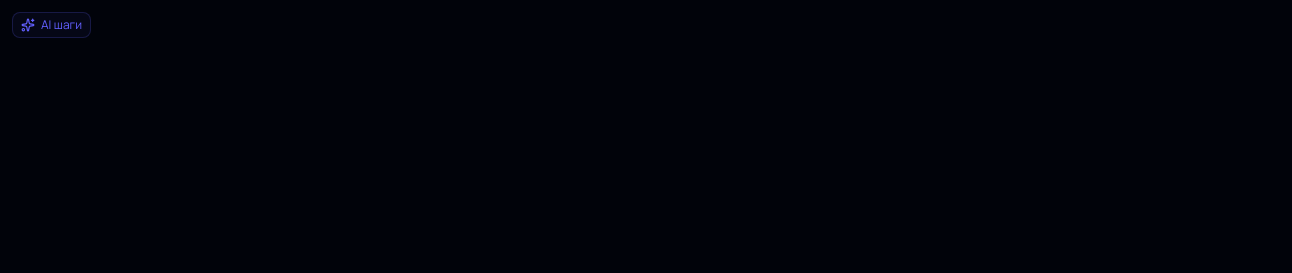
AiSubtaskDraft › keeps provider output local until explicit apply
The width and height of the screenshot is (1292, 273).
Later steps or results of the test are not shown.
Click the button "AI шаги" at (52, 25), box 12,12 -> 91,38
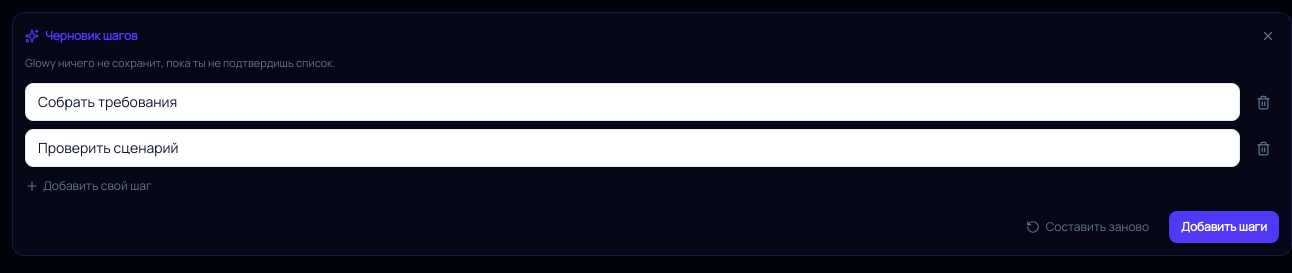
Now the field showing "Собрать требования" is shown, box 25,83 -> 1240,121
